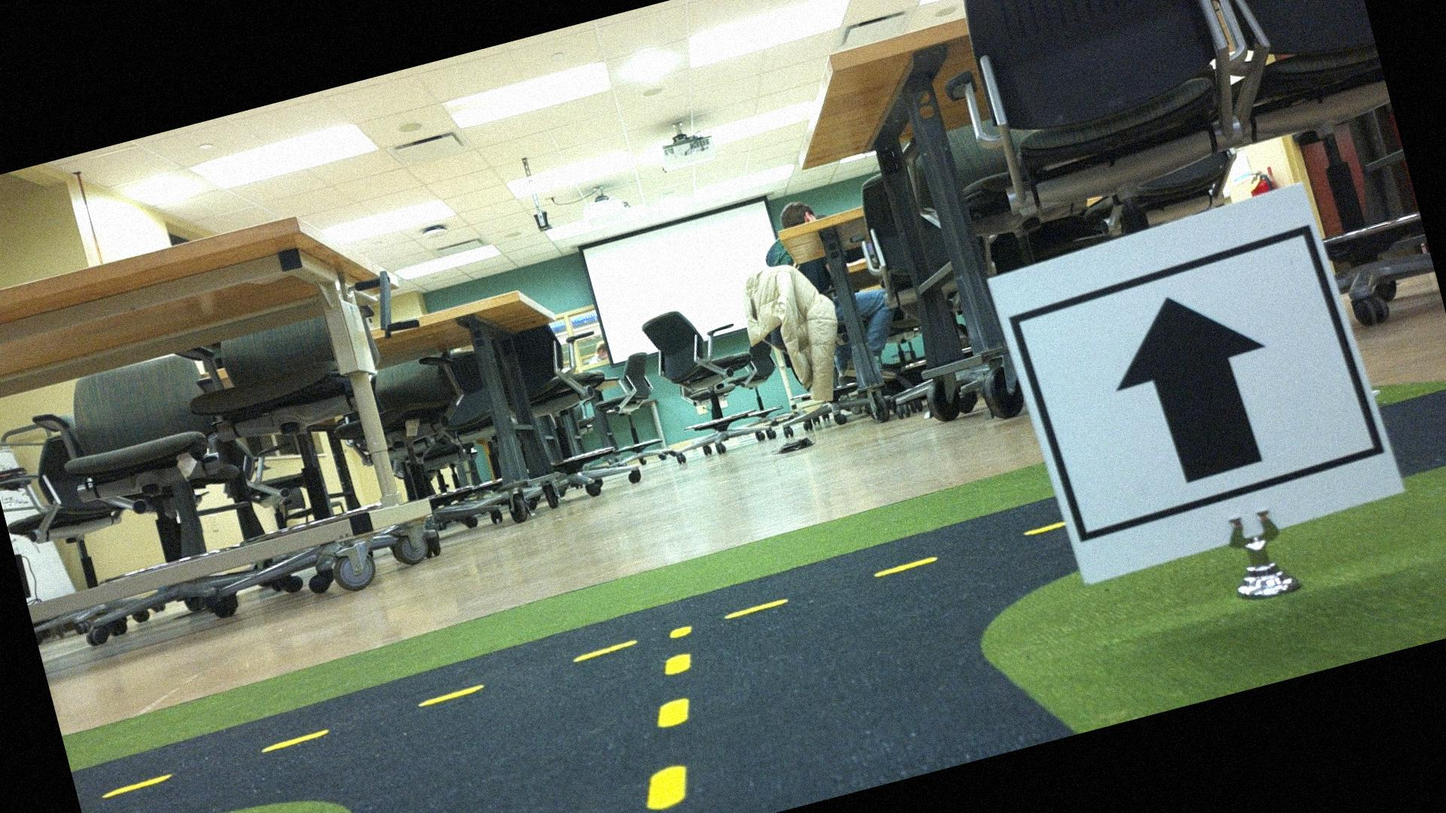gostraight: (996, 198, 1382, 573)
yellowline: (90, 519, 1065, 799), (608, 626, 734, 812)
